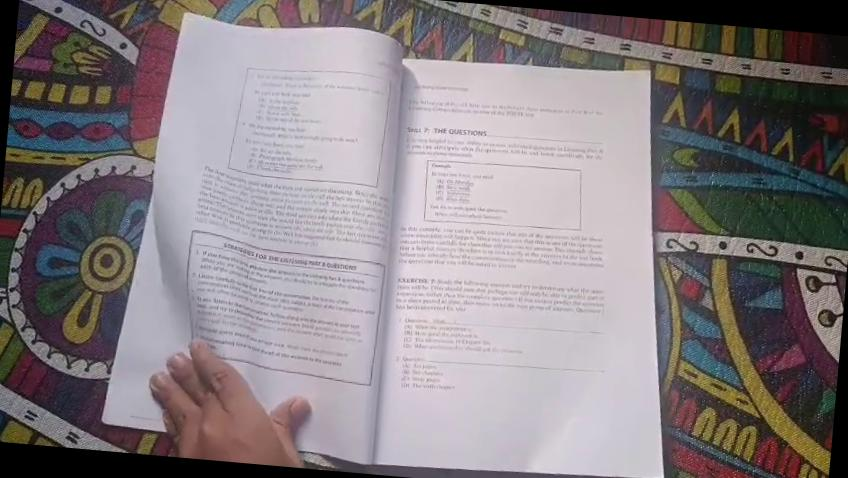Kertas: (358, 57, 652, 478), (153, 22, 397, 346)
